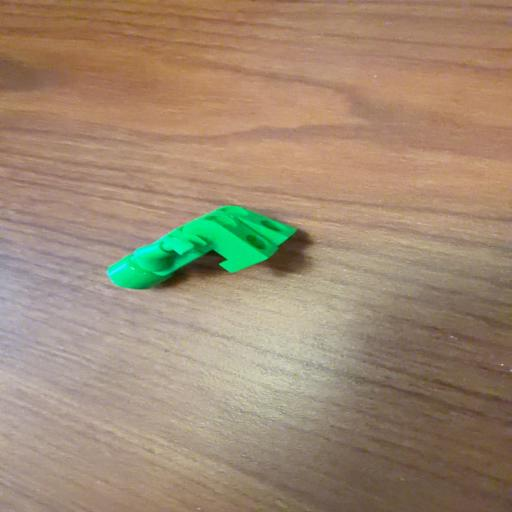UnoQ-minifig-detector: (108, 205, 296, 289)
